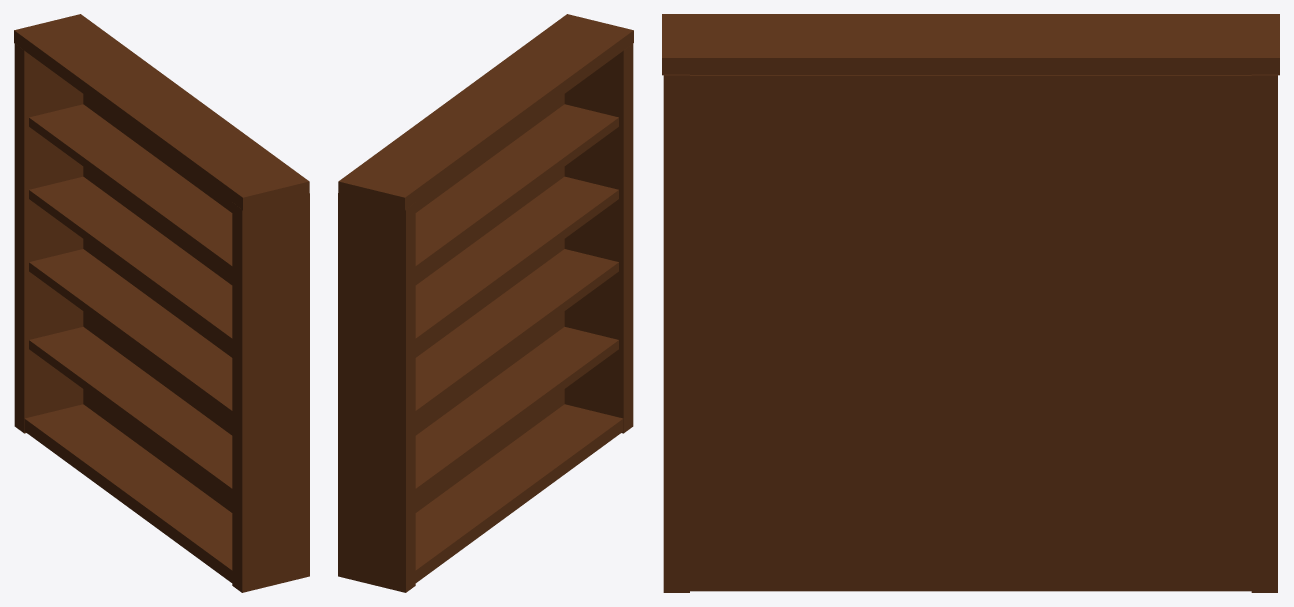
The model's file is bookshelf.fbx.
The picture shows the model from 3 angles, left to right: view 1: azimuth 30°, elevation 25°; view 2: azimuth 150°, elevation 25°; view 3: azimuth 270°, elevation 25°; orthographic projection. The views are drawn at different scales.
Visible parts, largest first — view 1: bookshelf; view 2: bookshelf; view 3: bookshelf.
Part boxes in pixels (<box>): bookshelf: <box>14,14,309,592</box>; bookshelf: <box>338,14,633,592</box>; bookshelf: <box>662,14,1279,592</box>.
Bounding box in the file's own units: 36.98 × 206 × 216.
